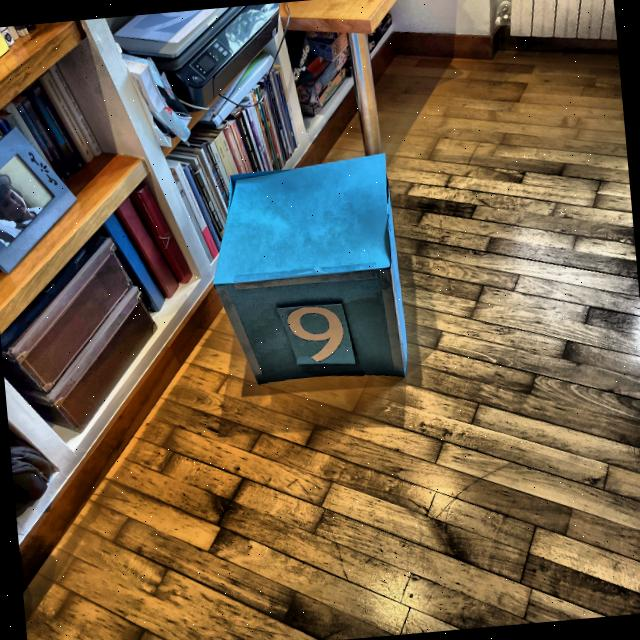blue box: (204, 154, 414, 395)
nine: (284, 302, 348, 368)
